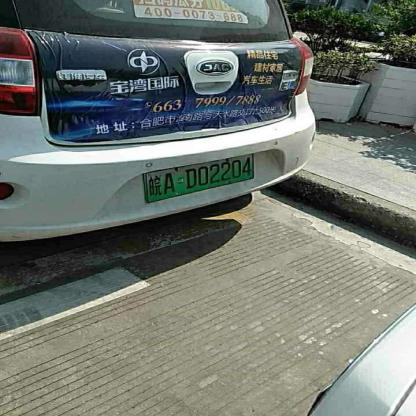lp: (143, 153, 255, 204)
